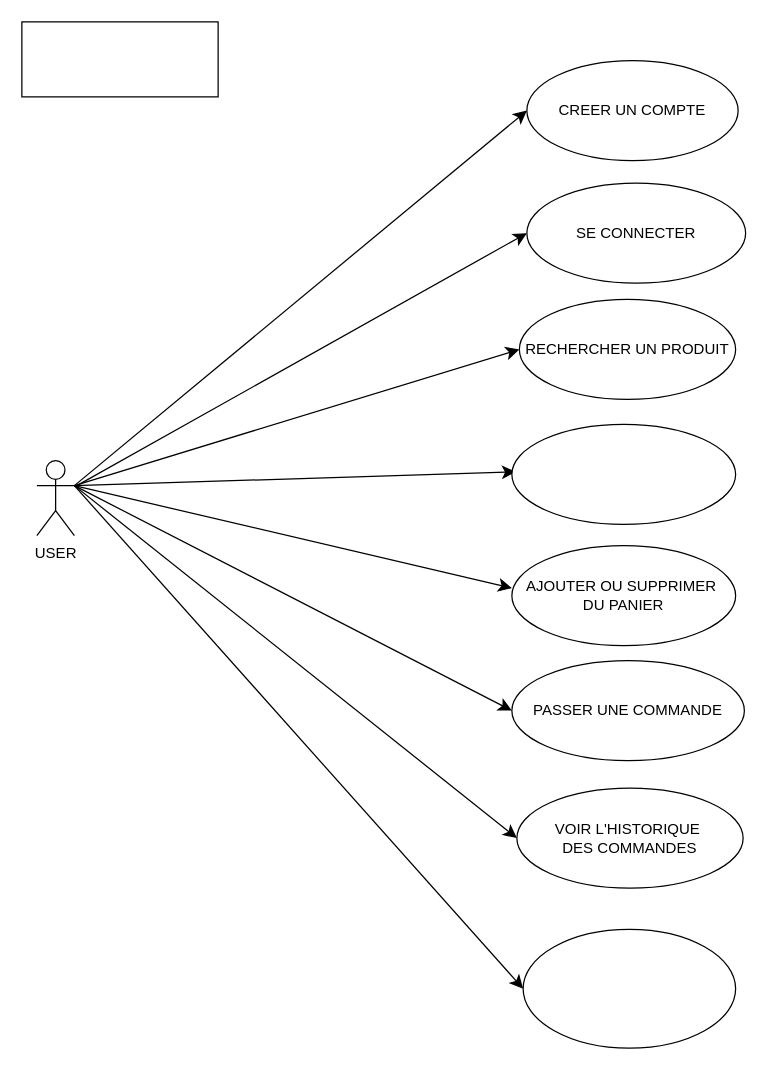
The diagram is 770 pixels wide and 1070 high, and some of its shapes have lost their labels. The shapes that lost their labels are listed below. From the top down, each one's centre as x and y in pixels, then its label:
pixel 119 59: SOUNDORA
pixel 623 473: CONSULTER UN PRODUIT
pixel 629 988: LAISSER UN AVIS
